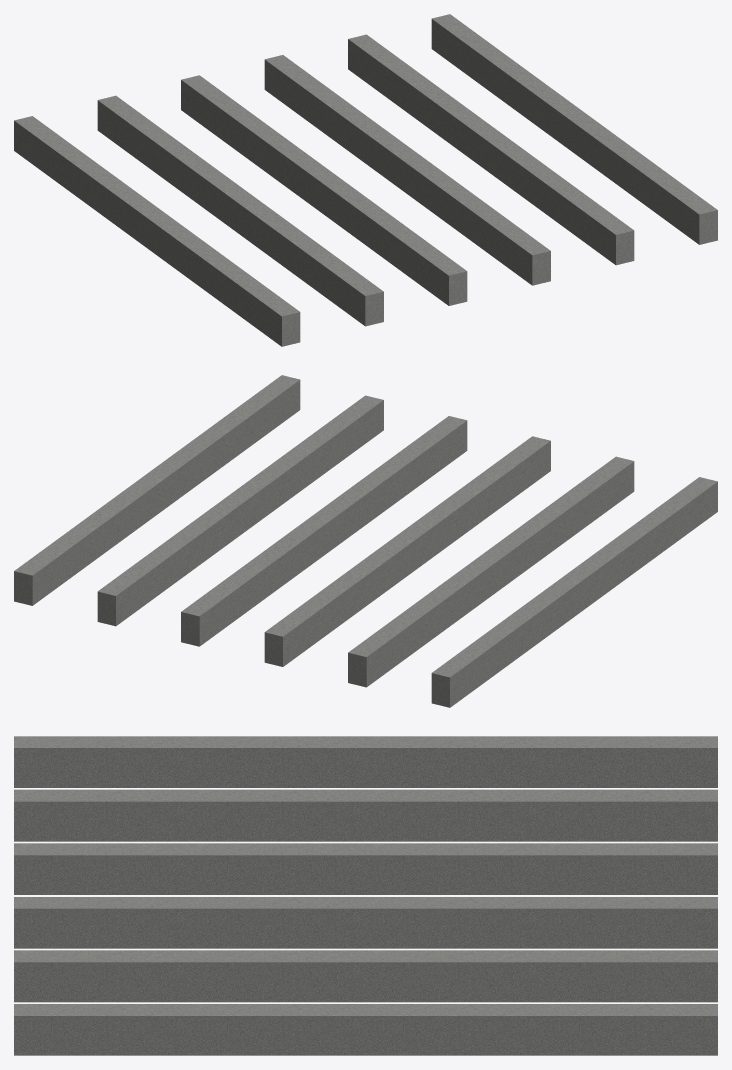
File: estate_roof_flat_2f.glb
3 renders of one model, top to bottom at view 1: azimuth 30°, elevation 25°; view 2: azimuth 150°, elevation 25°; view 3: azimuth 270°, elevation 25°, orthographic. The views are drawn at different scales.
Parts seen in each view (by area): view 1: Cube.001, Cube.004, Cube.002, Cube.003, Cube, Cube.005; view 2: Cube.001, Cube.004, Cube.002, Cube.003, Cube, Cube.005; view 3: Cube.001, Cube.004, Cube, Cube.002, Cube.003, Cube.005.
Boxes of the visible parts, x1,y1,x2,y2 form: Cube.001: (97, 95, 383, 326); Cube.004: (348, 34, 634, 265); Cube.002: (181, 75, 467, 305); Cube.003: (264, 55, 550, 285); Cube: (14, 116, 300, 346); Cube.005: (431, 14, 717, 244); Cube.001: (348, 456, 634, 687); Cube.004: (97, 395, 383, 626); Cube.002: (264, 436, 550, 666); Cube.003: (181, 416, 467, 646); Cube: (431, 477, 717, 707); Cube.005: (14, 375, 300, 605); Cube.001: (14, 789, 717, 841); Cube.004: (14, 950, 717, 1002); Cube: (14, 736, 717, 787); Cube.002: (14, 843, 717, 894); Cube.003: (14, 897, 717, 948); Cube.005: (14, 1004, 717, 1055).
Bounding box in the file's own units: 3.76 × 0.25 × 4.
1 material, 1 textured.
